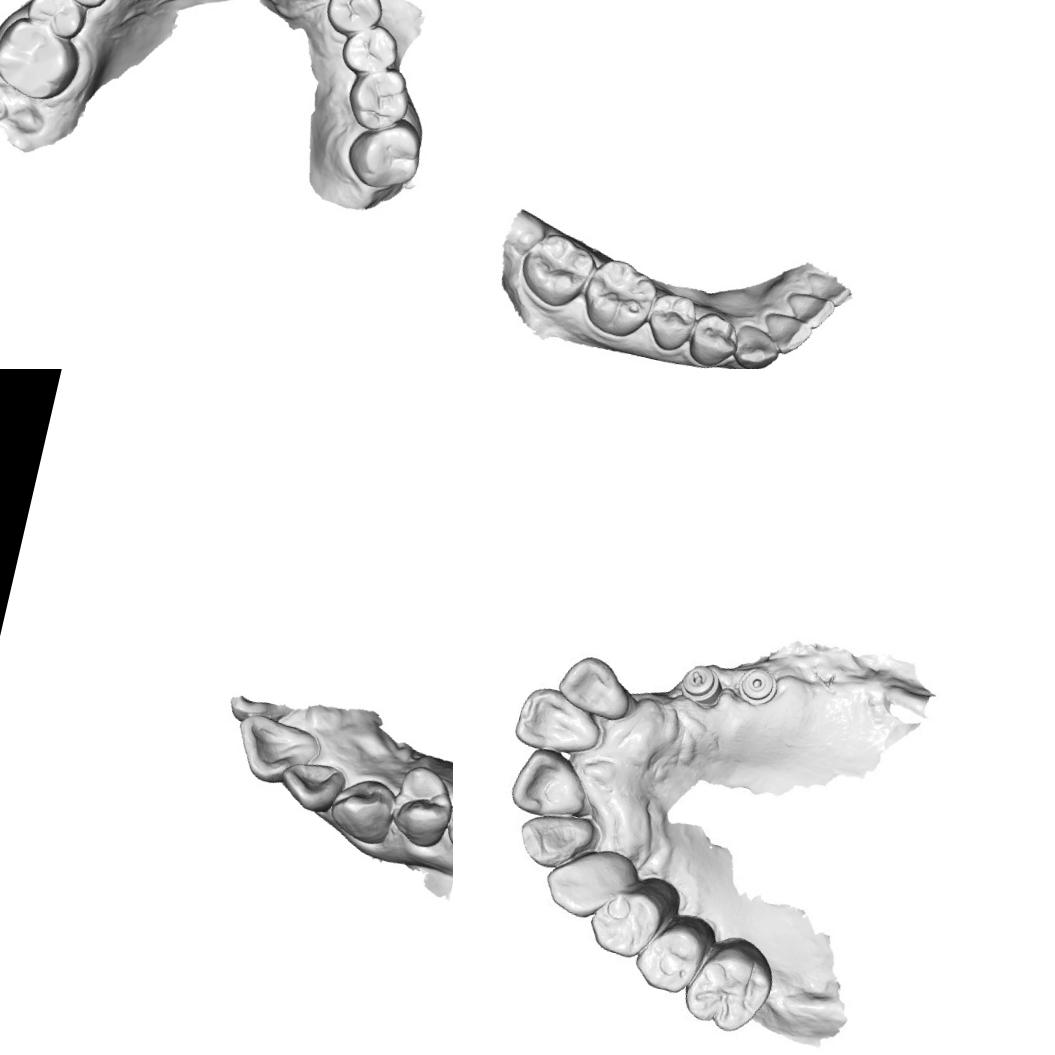canine: (540, 838, 638, 926), (322, 771, 401, 850), (728, 321, 783, 369)
implant: (735, 660, 782, 710)
implant_minus: (678, 656, 724, 706)
incisor: (226, 708, 325, 794), (511, 680, 611, 764), (506, 742, 606, 826), (550, 648, 640, 728), (512, 804, 606, 877), (276, 752, 350, 819), (755, 309, 816, 361), (780, 288, 837, 334), (799, 268, 856, 310)
molar: (678, 927, 784, 1041), (0, 10, 88, 107), (575, 252, 664, 344), (340, 108, 428, 198), (513, 224, 601, 314), (342, 60, 418, 138)
premolar: (584, 876, 672, 966), (625, 914, 712, 1005), (386, 761, 453, 850), (337, 17, 405, 81), (642, 288, 701, 358), (683, 306, 745, 369), (21, 0, 93, 45), (320, 0, 389, 43)
